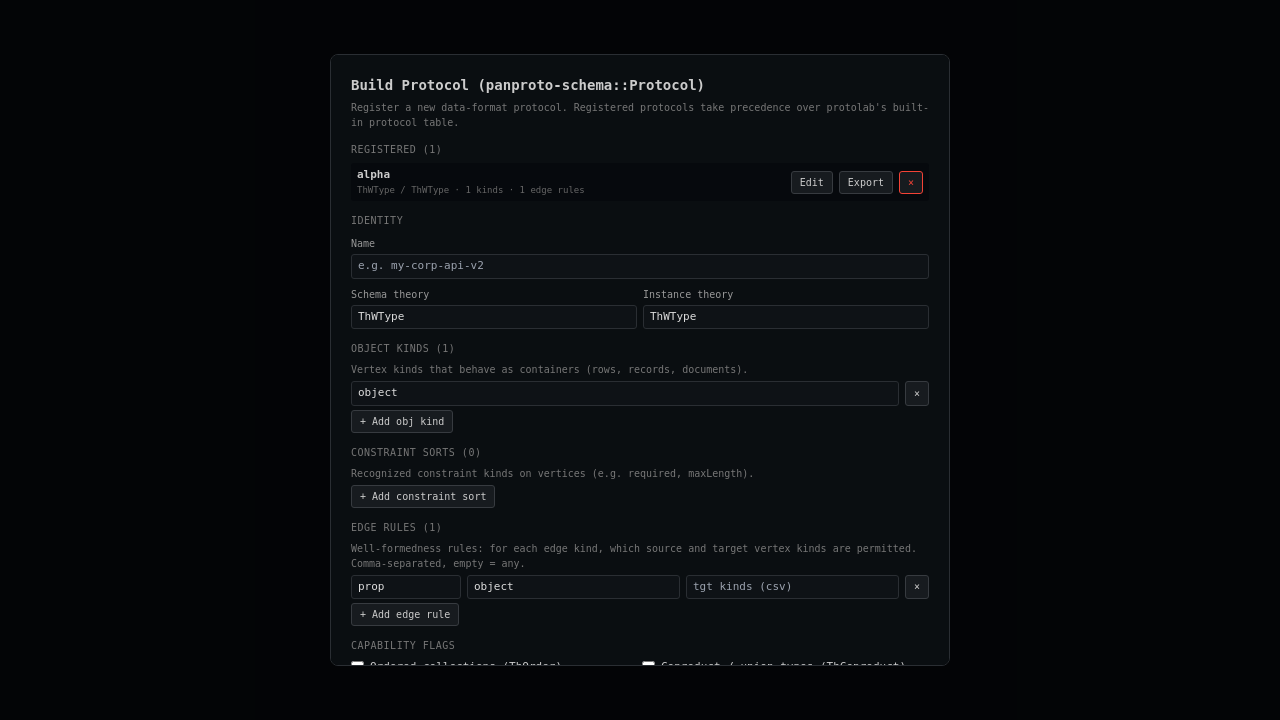
ProtocolEditor › Edit button loads a protocol back into the form via getProtocolJson
This screenshot has width=1280, height=720.
Click the button "Edit": (812,182) [791,170,833,194]
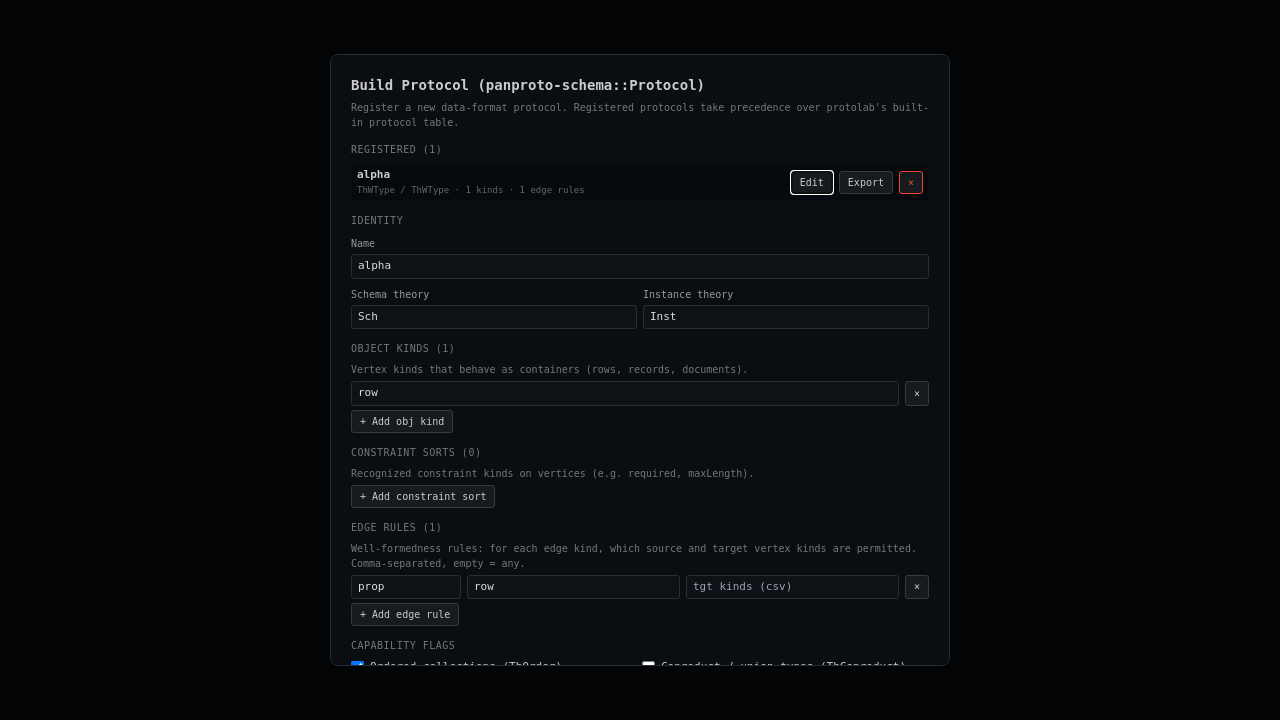
Now the 1st field showing "alpha" is shown, box [351,254,929,278]
Now the field showing "Sch" below "Schema theory" is shown, box [351,304,637,329]
